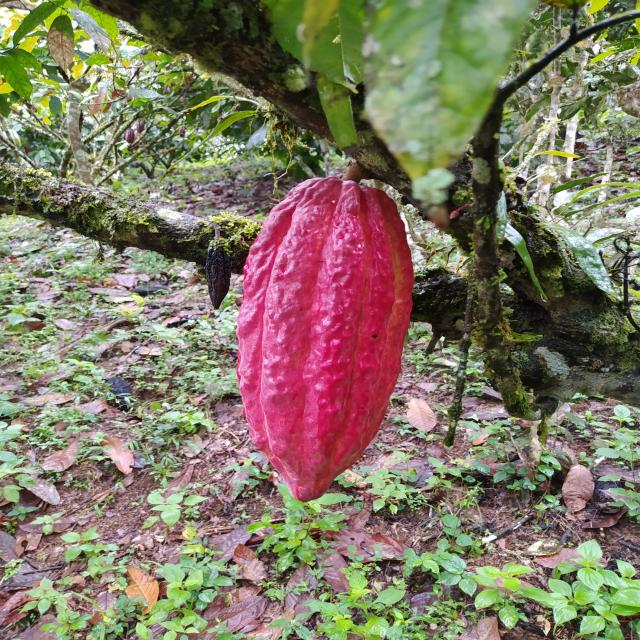Sana: (238, 177, 415, 503)
